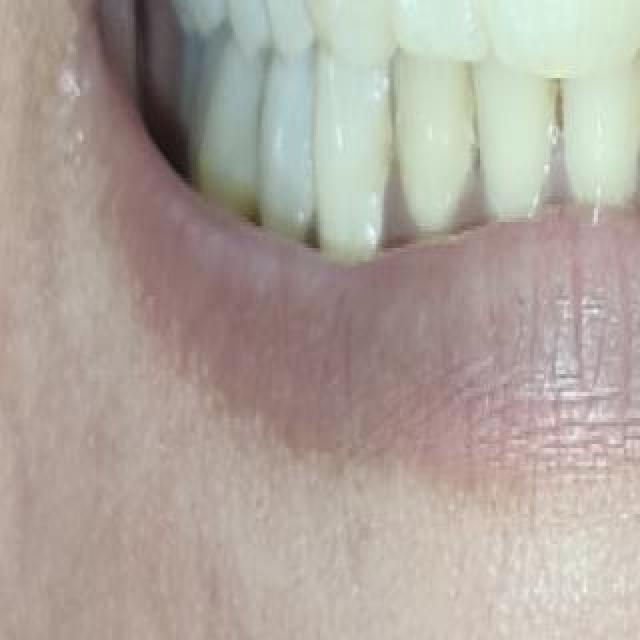plaque: (365, 58, 445, 254), (291, 88, 363, 272), (452, 69, 522, 235), (521, 66, 585, 218), (386, 0, 484, 70), (622, 44, 640, 204), (298, 0, 370, 6)
